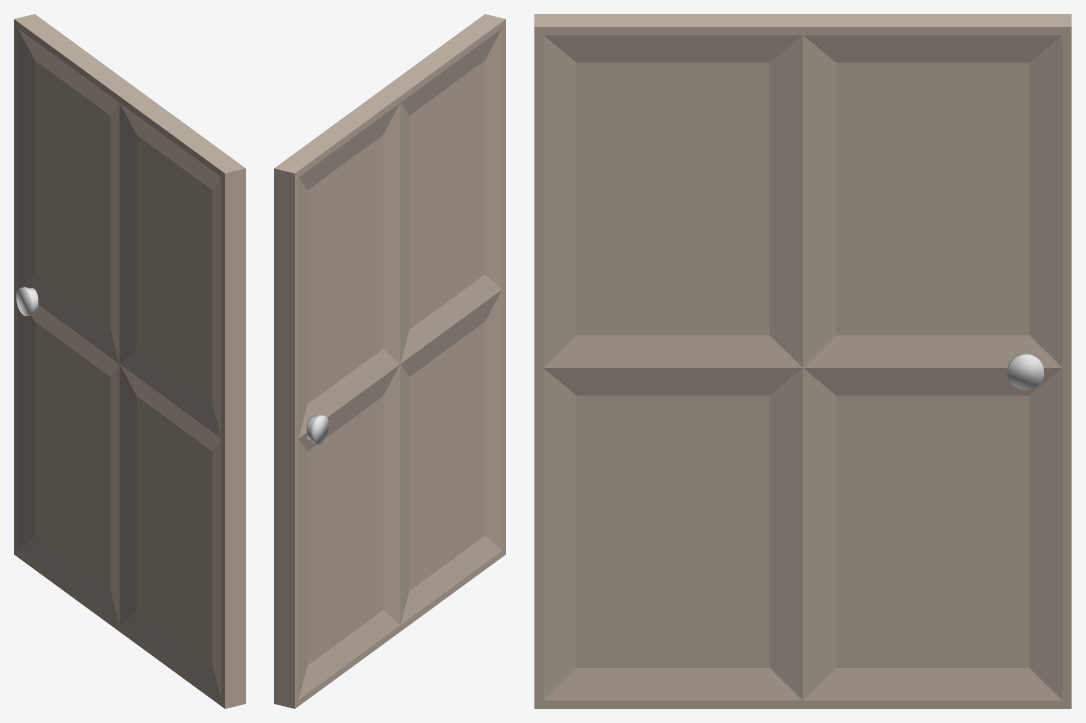
File: Door.glb
3 views of the same model, side by side, from view 1: azimuth 30°, elevation 25°; view 2: azimuth 150°, elevation 25°; view 3: azimuth 270°, elevation 25° (orthographic). The views are drawn at different scales.
Visible parts, largest first — view 1: Door; view 2: Door; view 3: Door.
Boxes of the visible parts, x1,y1,x2,y2 form: Door: [14, 14, 245, 708]; Door: [274, 14, 505, 708]; Door: [534, 14, 1071, 708].
Size of the model in its own units: 0.3667 by 4.9 by 3.5.
2 materials, 1 textured.
